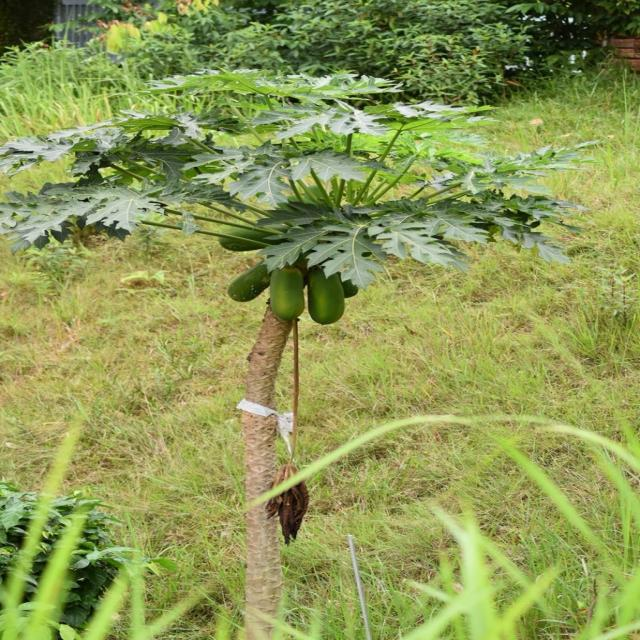Papaya-Tree: (0, 61, 568, 526)
